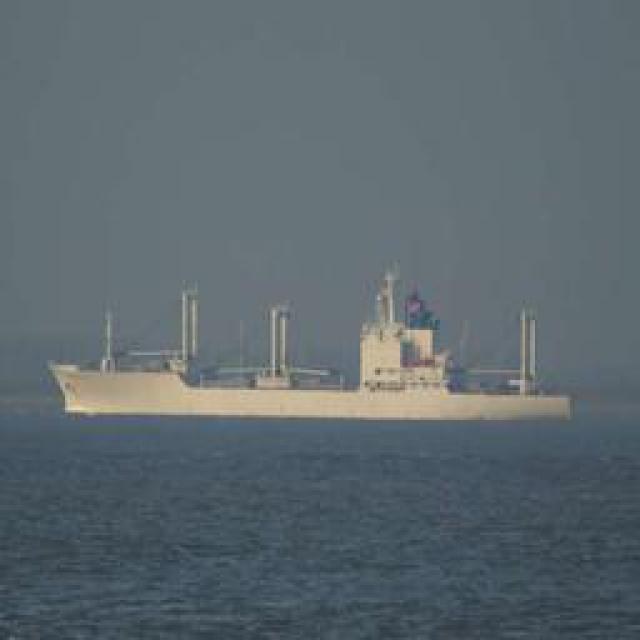Ship: (52, 351, 570, 424)
